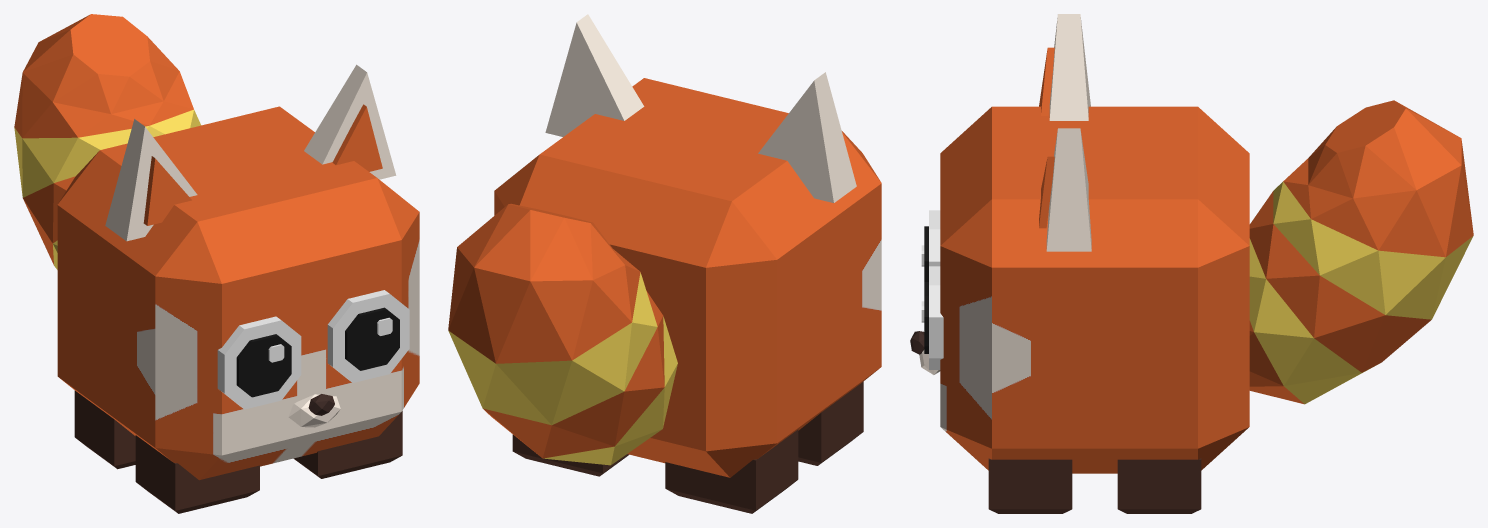
The model's file is RedPanda.fbx.
The picture shows the model from 3 angles, left to right: view 1: azimuth 30°, elevation 25°; view 2: azimuth 150°, elevation 25°; view 3: azimuth 270°, elevation 25°; orthographic projection. The views are drawn at different scales.
Visible parts, largest first — view 1: RedPanda, RedPanda_Tail, RedPanda_Feet, RedPanda_Ears, RedPanda_Eyes, RedPanda_Pupils, RedPanda_TailGlow, RedPanda_EarInner, RedPanda_Snout; view 2: RedPanda, RedPanda_Tail, RedPanda_TailGlow, RedPanda_Ears, RedPanda_Feet; view 3: RedPanda, RedPanda_Tail, RedPanda_TailGlow, RedPanda_Feet, RedPanda_Ears, RedPanda_Eyes, RedPanda_EarInner, RedPanda_Pupils.
Part boxes in pixels (x1,y1,x2,y2): RedPanda: [57, 106, 419, 480]; RedPanda_Tail: [14, 14, 193, 264]; RedPanda_Feet: [74, 390, 402, 513]; RedPanda_Ears: [105, 64, 396, 241]; RedPanda_Eyes: [217, 290, 409, 409]; RedPanda_Pupils: [236, 307, 399, 397]; RedPanda_TailGlow: [14, 109, 201, 269]; RedPanda_EarInner: [143, 104, 382, 225]; RedPanda_Snout: [288, 394, 340, 427]; RedPanda: [494, 78, 881, 477]; RedPanda_Tail: [448, 203, 664, 458]; RedPanda_TailGlow: [448, 272, 677, 465]; RedPanda_Ears: [545, 14, 856, 202]; RedPanda_Feet: [512, 381, 863, 513]; RedPanda: [940, 106, 1249, 473]; RedPanda_Tail: [1249, 100, 1473, 404]; RedPanda_TailGlow: [1249, 181, 1473, 403]; RedPanda_Feet: [988, 458, 1201, 513]; RedPanda_Ears: [1046, 14, 1091, 251]; RedPanda_Eyes: [921, 210, 943, 369]; RedPanda_EarInner: [1039, 47, 1054, 228]; RedPanda_Pupils: [924, 226, 928, 353].
Bounding box in the file's own units: 2.04 × 2.66 × 3.5.
10 materials, 1 textured.
